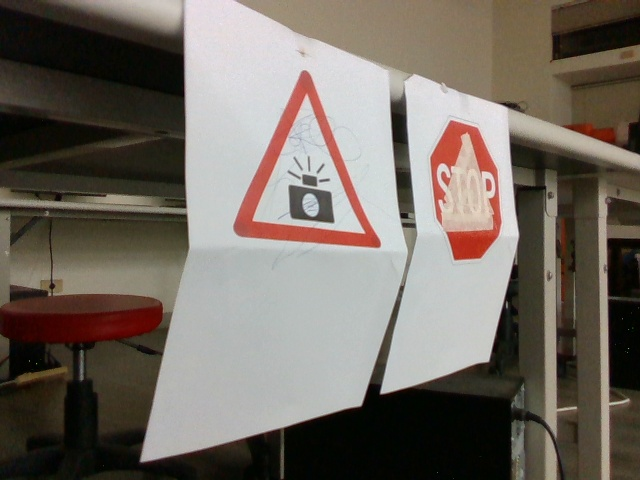camera: (234, 71, 380, 254)
stop: (431, 118, 505, 261)
